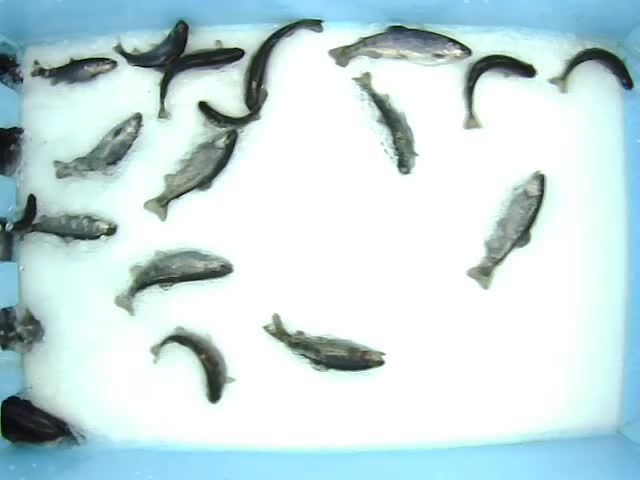fish: (465, 168, 546, 291), (143, 125, 239, 224), (110, 247, 235, 318), (242, 16, 329, 116), (156, 37, 245, 122), (352, 70, 422, 176), (270, 310, 386, 373), (50, 109, 146, 182), (326, 22, 473, 68), (148, 326, 235, 401), (457, 53, 539, 131), (547, 42, 633, 95), (111, 16, 189, 71), (17, 211, 119, 246), (197, 83, 270, 126), (32, 54, 119, 85)
